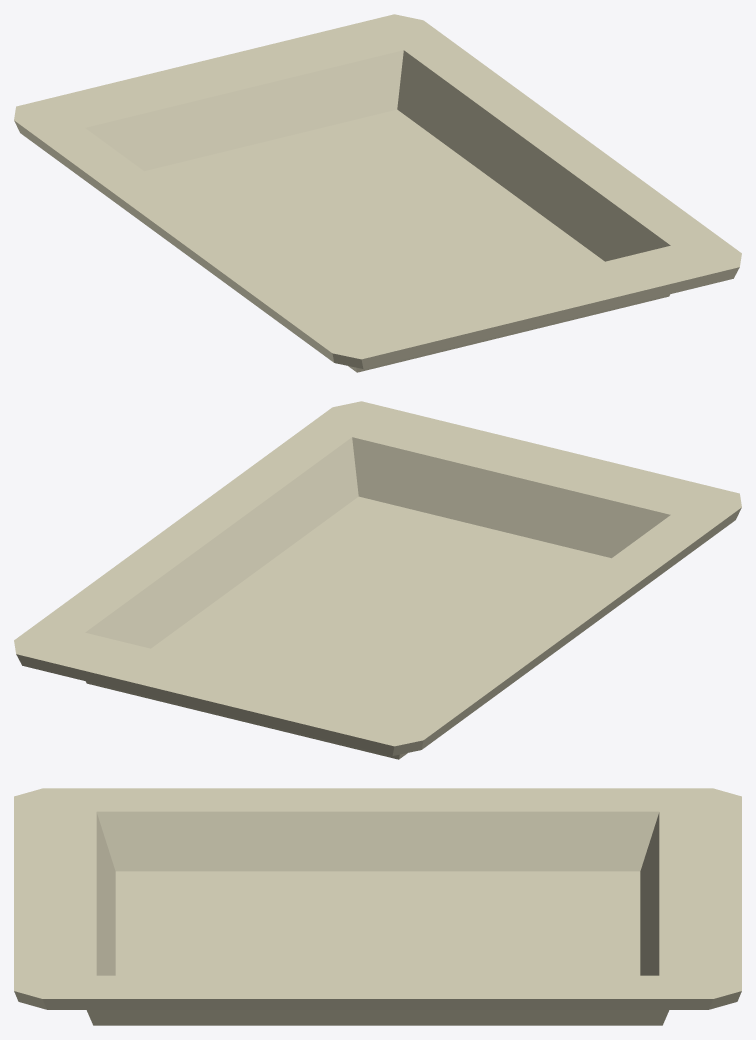
The model's file is Diningroom-tray.glb.
3 views of the same model, one above another, from view 1: azimuth 30°, elevation 25°; view 2: azimuth 150°, elevation 25°; view 3: azimuth 270°, elevation 25° (orthographic). The views are drawn at different scales.
Visible parts, largest first — view 1: Cube; view 2: Cube; view 3: Cube.
Part boxes in pixels (x1,y1,x2,y2): Cube: [14, 14, 741, 372]; Cube: [14, 401, 741, 759]; Cube: [14, 788, 741, 1025].
Size of the model in its own units: 2.62 by 0.3 by 3.84.
